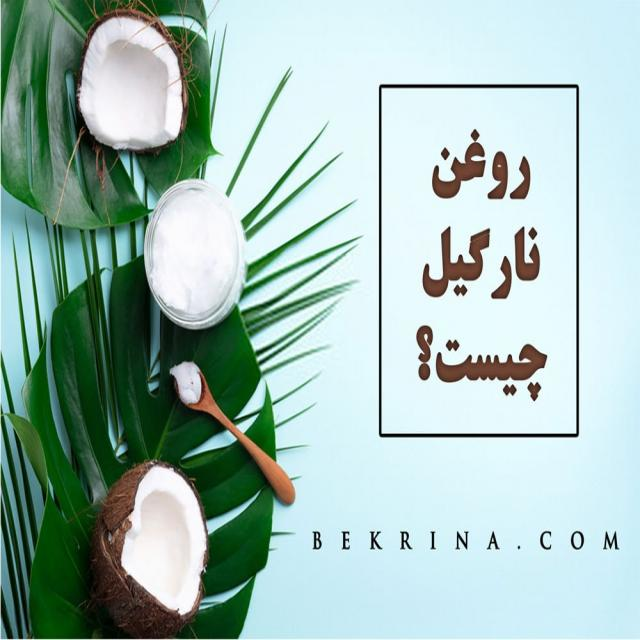coconut: (89, 458, 211, 638), (72, 5, 190, 157)
